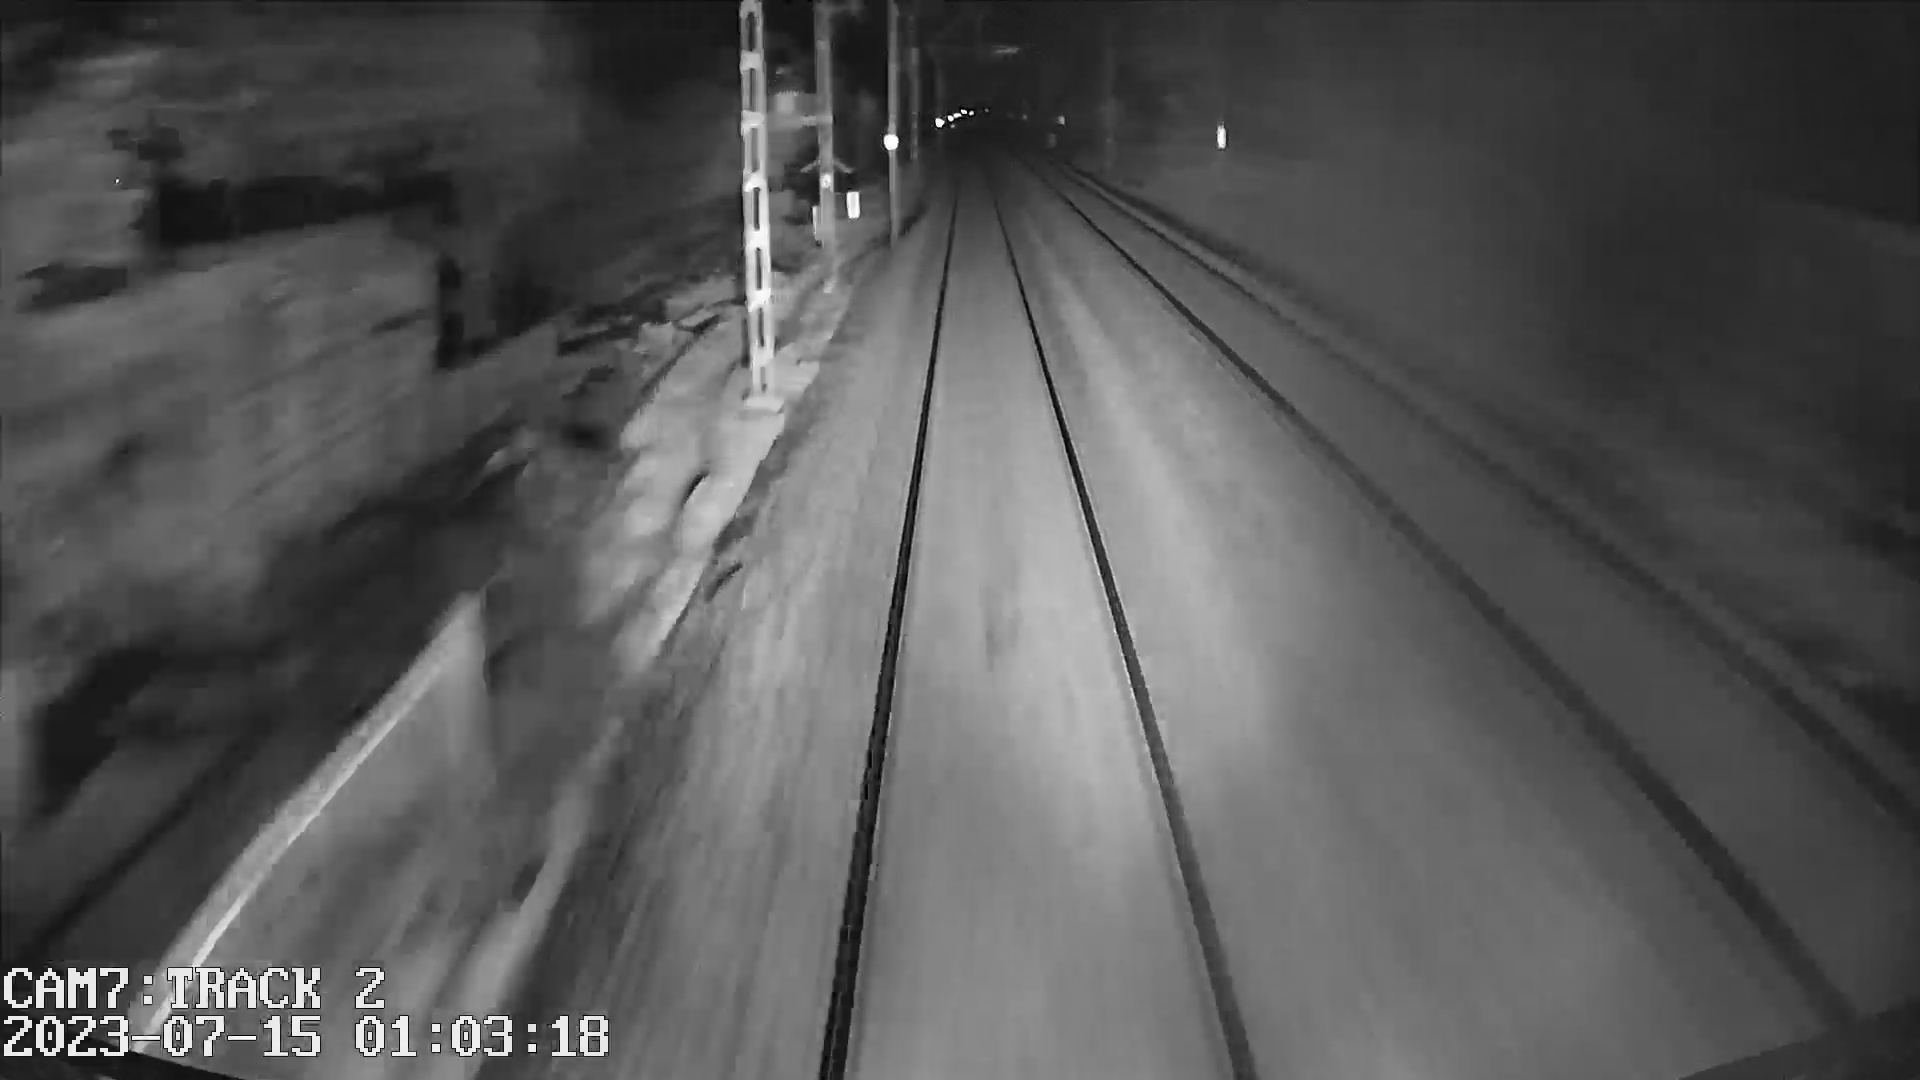track1: (835, 200, 1242, 1059)
track2: (1068, 193, 1902, 956)
